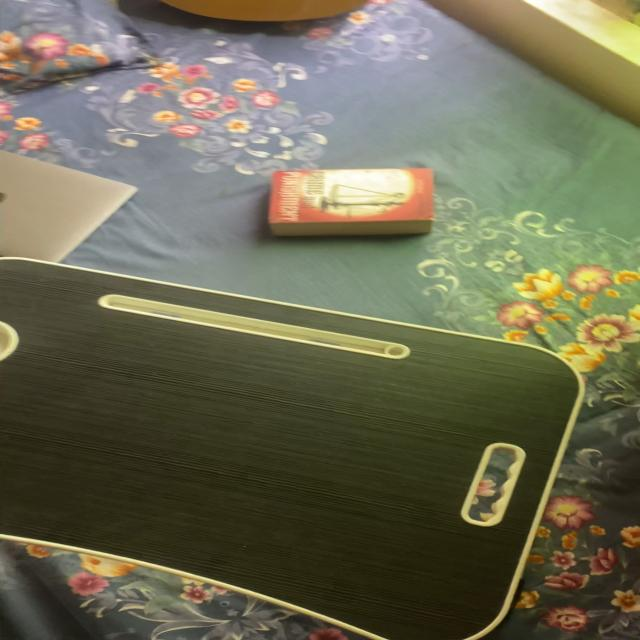book: (255, 156, 500, 249)
laptop: (0, 141, 166, 259)
table: (0, 253, 611, 640)
